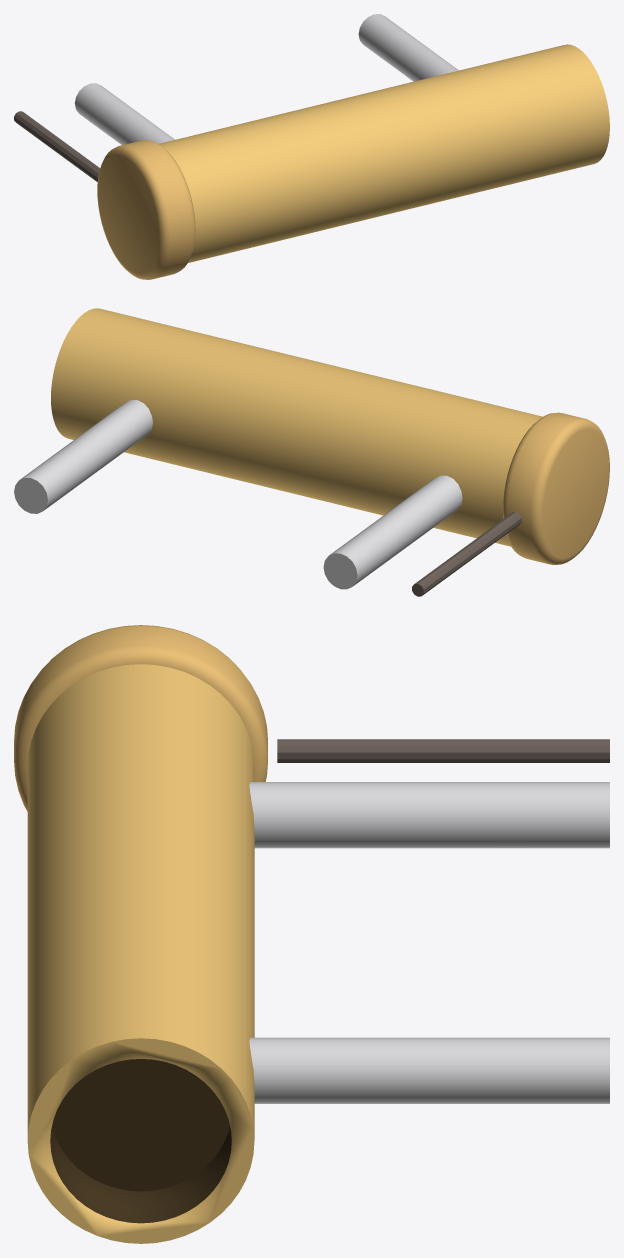
3 renders of one model, top to bottom at view 1: azimuth 30°, elevation 25°; view 2: azimuth 150°, elevation 25°; view 3: azimuth 270°, elevation 25°, orthographic. The views are drawn at different scales.
Parts seen in each view (by area): view 1: tubular_bells_default; view 2: tubular_bells_default; view 3: tubular_bells_default.
Part boxes in pixels (left/top/right/bottom): tubular_bells_default: left=14, top=14, right=609, bottom=279; tubular_bells_default: left=14, top=308, right=609, bottom=596; tubular_bells_default: left=14, top=625, right=609, bottom=1243.
Size of the model in its own units: 0.635 by 0.168 by 0.394.
